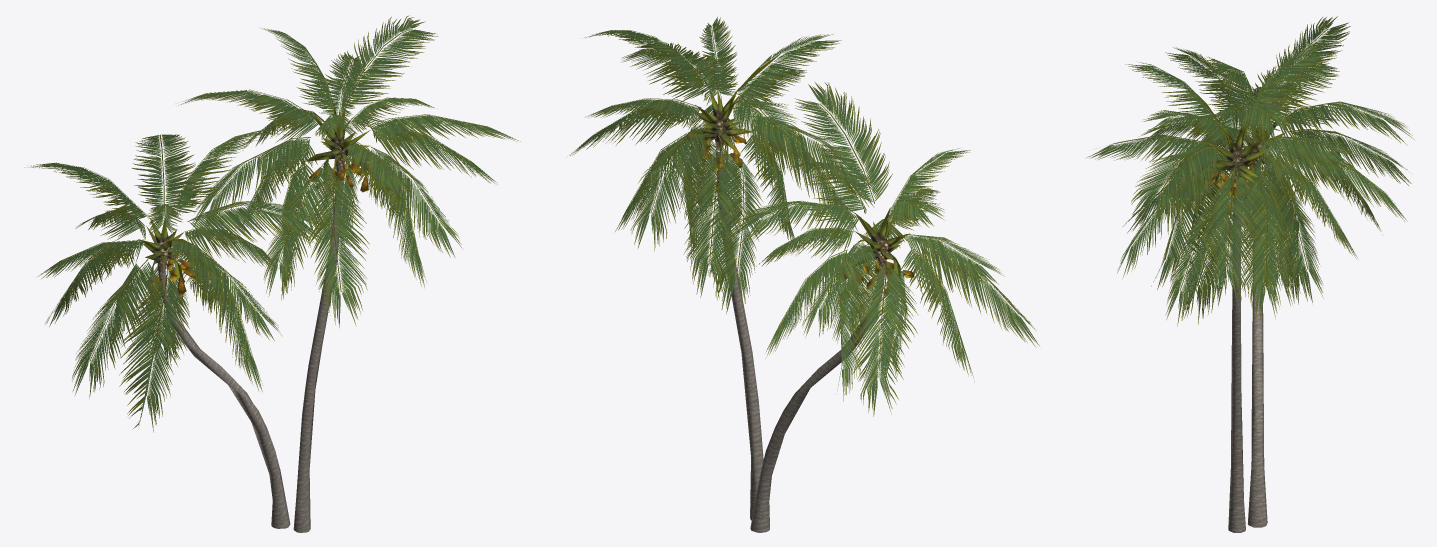
The model's file is coconut_palm_lod.glb.
The picture shows the model from 3 angles, left to right: view 1: azimuth 30°, elevation 25°; view 2: azimuth 150°, elevation 25°; view 3: azimuth 270°, elevation 25°; orthographic projection. The views are drawn at different scales.
Parts seen in each view (by area): view 1: Tree_2_Tree_2Mat_0, Tree_0_Tree_0Mat_0, Tree_3_Tree_3Mat_0, Tree_4_Tree_4Mat_0; view 2: Tree_2_Tree_2Mat_0, Tree_0_Tree_0Mat_0, Tree_3_Tree_3Mat_0, Tree_4_Tree_4Mat_0; view 3: Tree_2_Tree_2Mat_0, Tree_0_Tree_0Mat_0, Tree_3_Tree_3Mat_0, Tree_4_Tree_4Mat_0.
Part boxes in pixels (x1=…): Tree_2_Tree_2Mat_0: x1=24, y1=15, x2=520, y2=432; Tree_0_Tree_0Mat_0: x1=158, y1=171, x2=342, y2=532; Tree_3_Tree_3Mat_0: x1=138, y1=102, x2=370, y2=299; Tree_4_Tree_4Mat_0: x1=140, y1=156, x2=372, y2=307; Tree_2_Tree_2Mat_0: x1=567, y1=17, x2=1039, y2=416; Tree_0_Tree_0Mat_0: x1=716, y1=150, x2=885, y2=532; Tree_3_Tree_3Mat_0: x1=687, y1=88, x2=909, y2=291; Tree_4_Tree_4Mat_0: x1=684, y1=128, x2=914, y2=303; Tree_2_Tree_2Mat_0: x1=1085, y1=16, x2=1414, y2=326; Tree_0_Tree_0Mat_0: x1=1228, y1=173, x2=1267, y2=532; Tree_3_Tree_3Mat_0: x1=1205, y1=115, x2=1284, y2=202; Tree_4_Tree_4Mat_0: x1=1204, y1=164, x2=1282, y2=213.
Size of the model in its own units: 6.3 by 6.28 by 4.02.
Materials: 5 (5 with a texture image).
